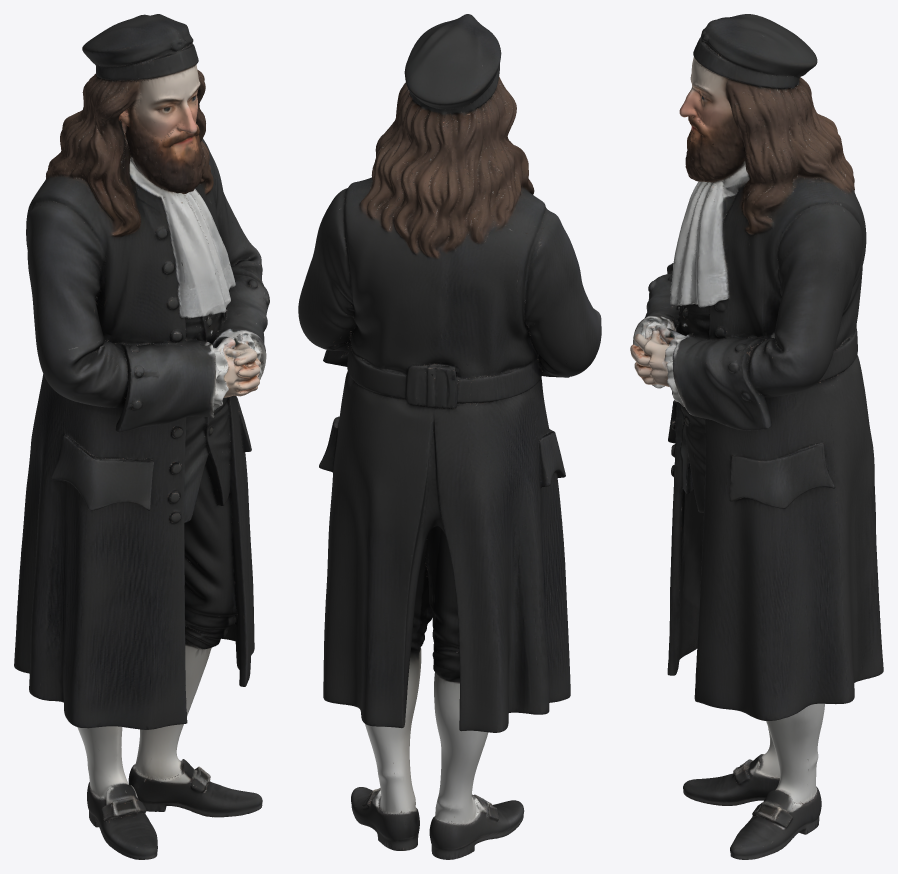
The model's file is Meshy_AI_Ramchal_0209035108_texture.glb.
3 views of the same model, side by side, from view 1: azimuth 30°, elevation 25°; view 2: azimuth 150°, elevation 25°; view 3: azimuth 270°, elevation 25° (orthographic). The views are drawn at different scales.
Size of the model in its own units: 0.652 by 2 by 0.5786.
1 material, 1 textured.
